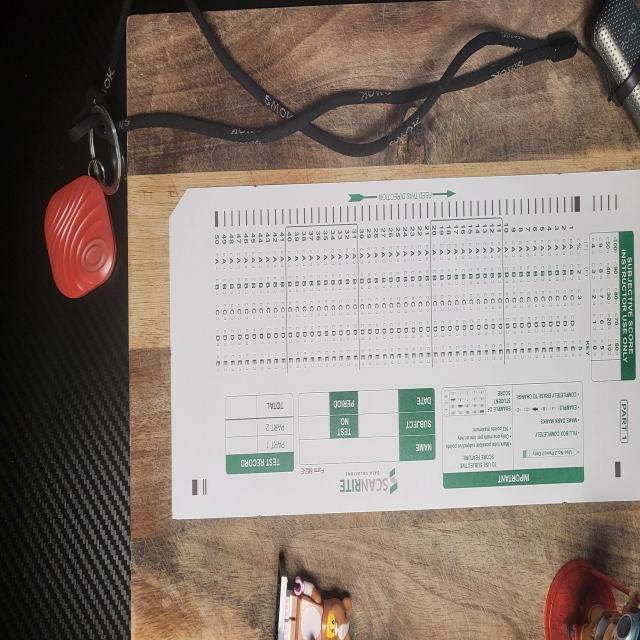scantron: (170, 169, 640, 519)
